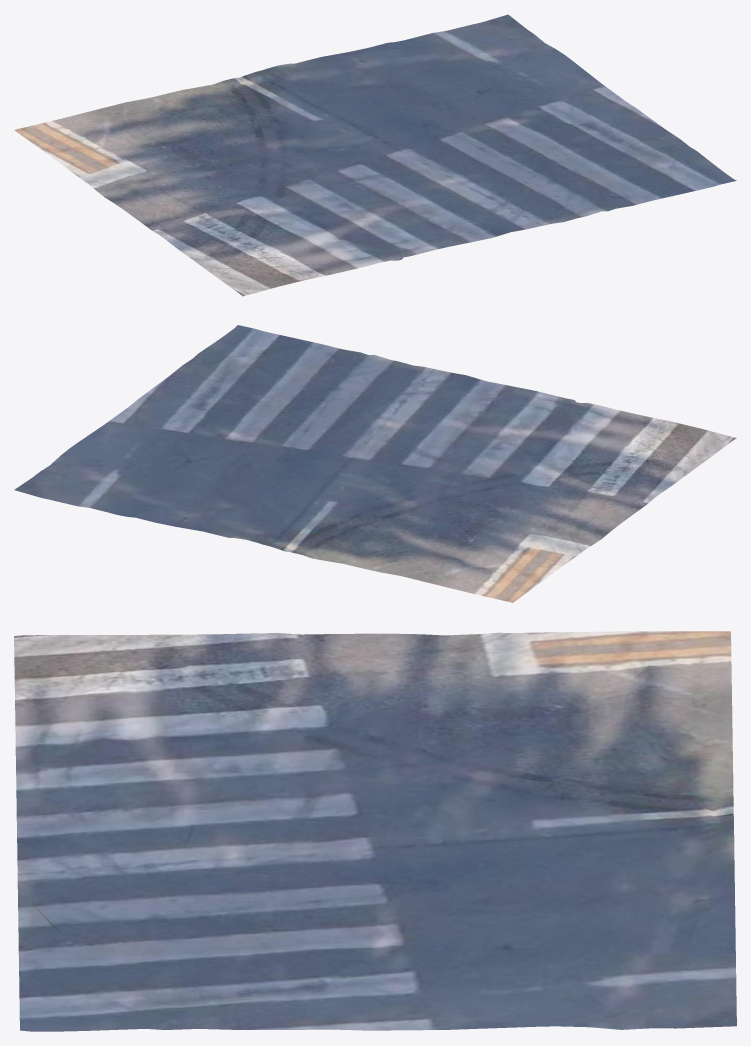
The model's file is Tile_+006_+007_L22_0000130.glb.
The picture shows the model from 3 angles, top to bottom: view 1: azimuth 30°, elevation 25°; view 2: azimuth 150°, elevation 25°; view 3: azimuth 270°, elevation 25°; orthographic projection. The views are drawn at different scales.
Visible parts, largest first — view 1: rtc; view 2: rtc; view 3: rtc.
Part boxes in pixels (x1,y1,x2,y2): rtc: [14, 14, 736, 296]; rtc: [14, 325, 736, 602]; rtc: [14, 631, 736, 1031].
Size of the model in its own units: 8.86 by 0.2105 by 7.02.
1 material, 1 textured.
